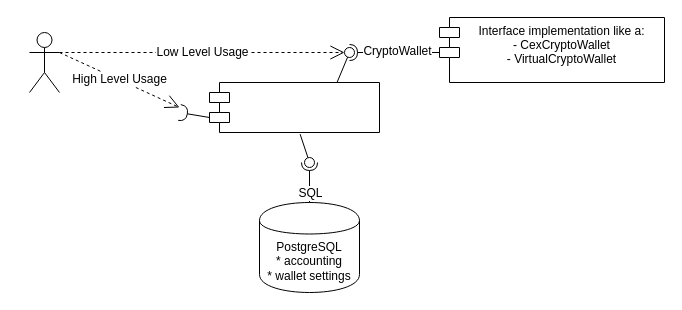
Some shapes in this 682 by 310 pixel diagram are drawn without their labels. Here are the shapes that lost their labels. From the top down, the centre of each, then its label:
(x=44, y=62): Embedder
(x=294, y=107): CryptoWalletCompoment
